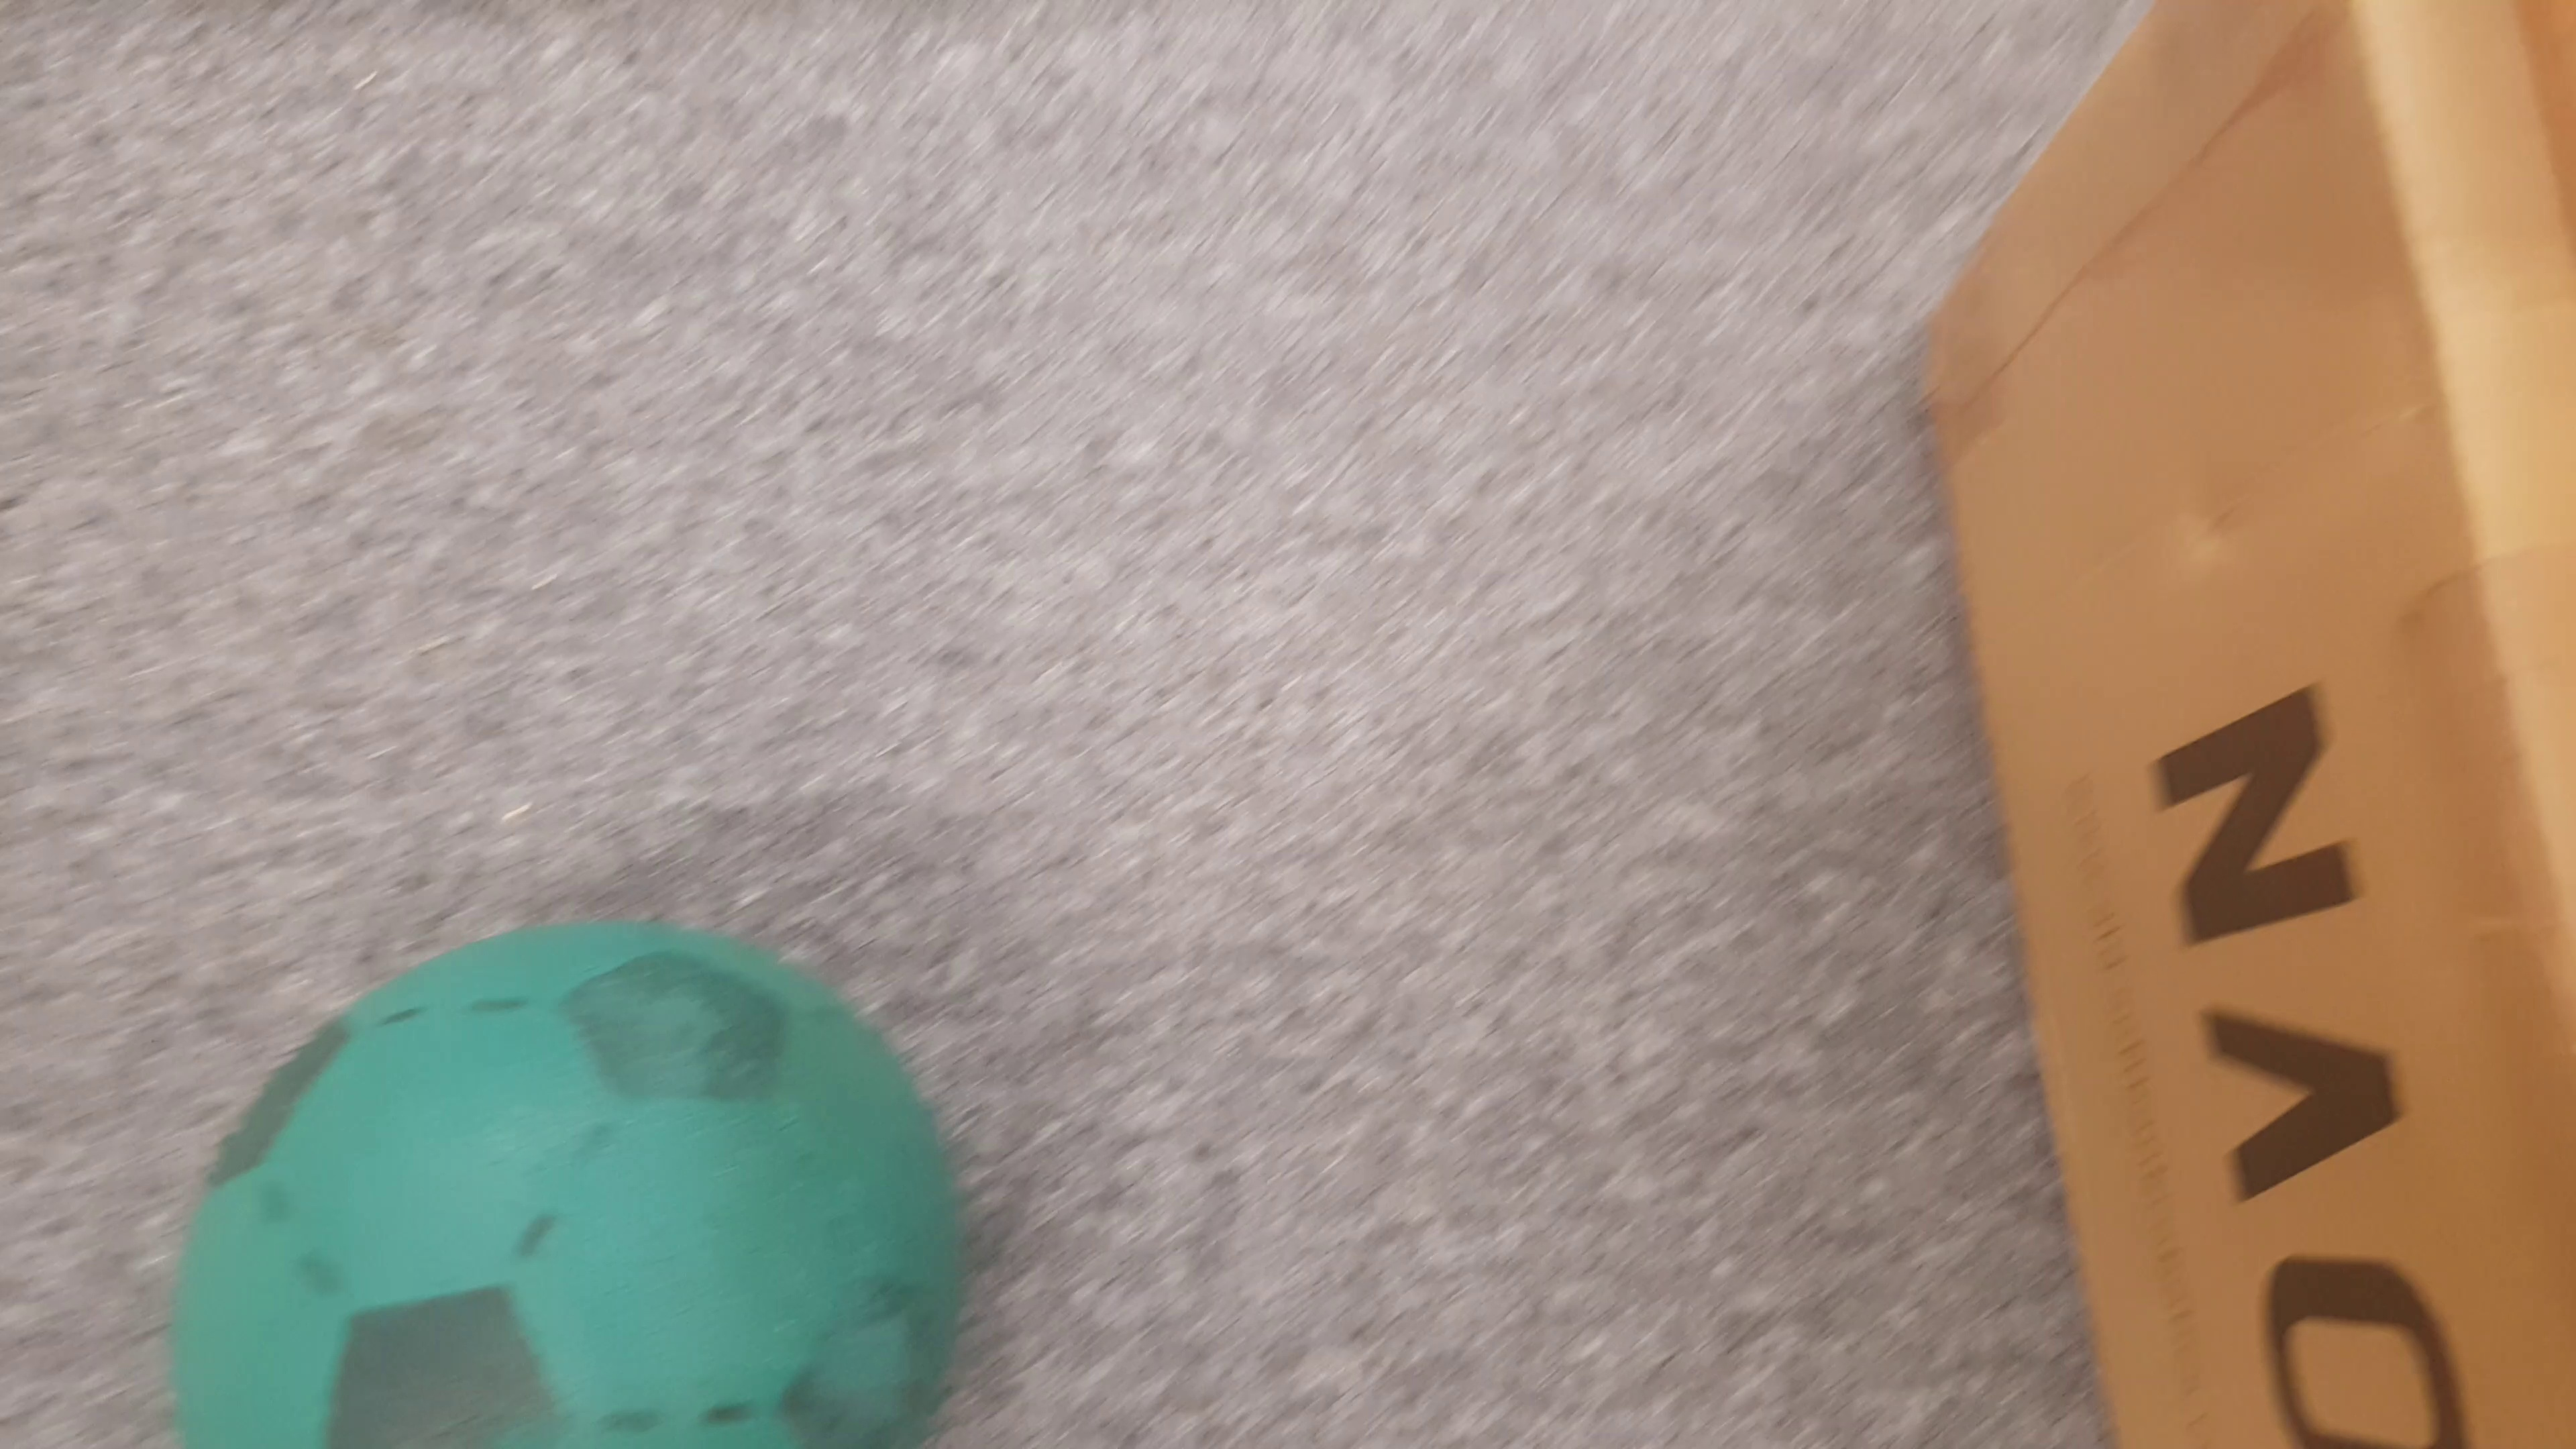kick: (180, 920, 959, 1449)
